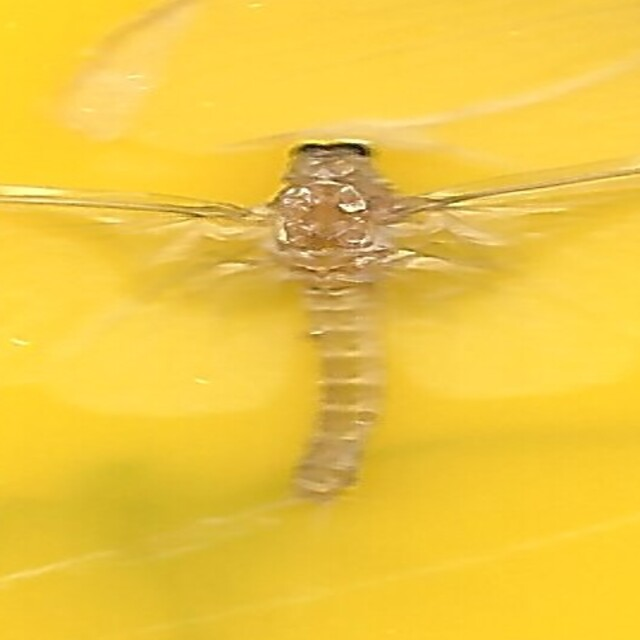Ephemeroptera: (239, 133, 401, 507)
